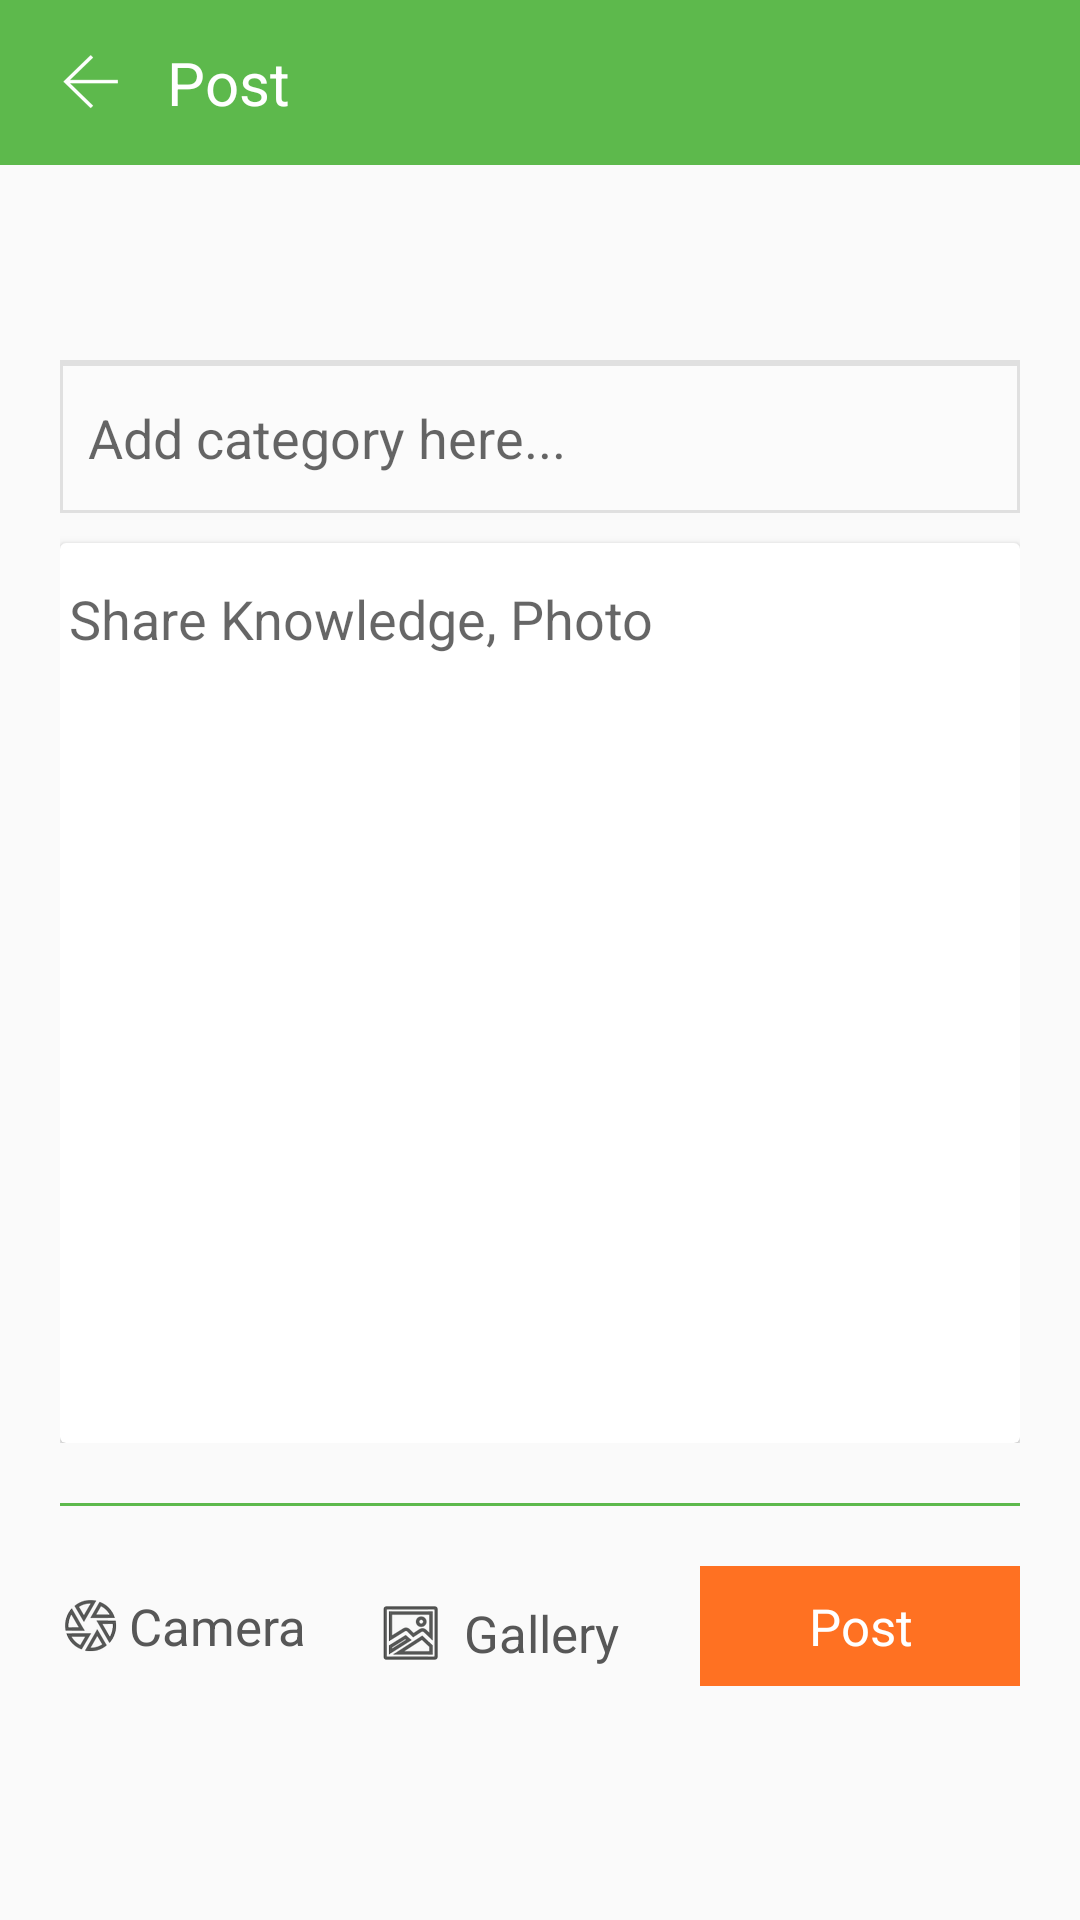

Point at icon controls on the screen. Image size 1080w x 1920h, points as (x,y).
back: (90,81)
